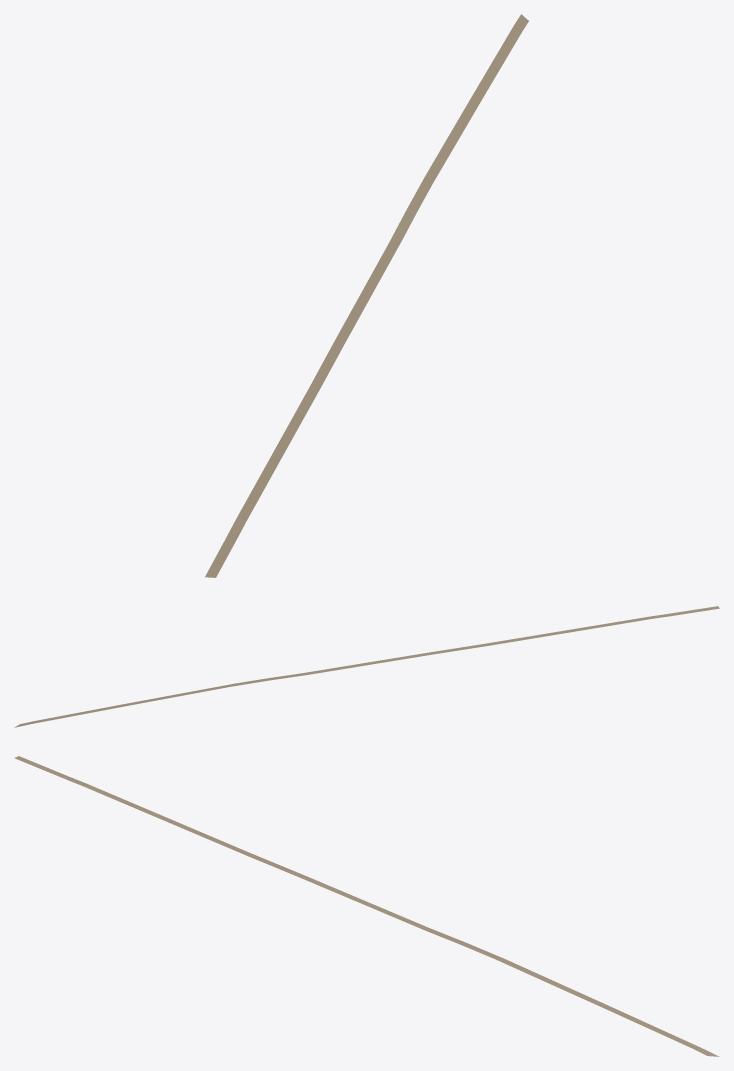
Rendered from farm_4_-6_track.glb.
The picture shows the model from 3 angles, top to bottom: view 1: azimuth 30°, elevation 25°; view 2: azimuth 150°, elevation 25°; view 3: azimuth 270°, elevation 25°; orthographic projection. The views are drawn at different scales.
Parts seen in each view (by area): view 1: geometry_0; view 2: geometry_0; view 3: geometry_0.
Boxes of the visible parts, left/top/right/bottom form: geometry_0: left=205, top=14, right=528, bottom=577; geometry_0: left=14, top=606, right=719, bottom=727; geometry_0: left=14, top=756, right=719, bottom=1056.
Bounding box in the file's own units: 284 × 15.35 × 314.
